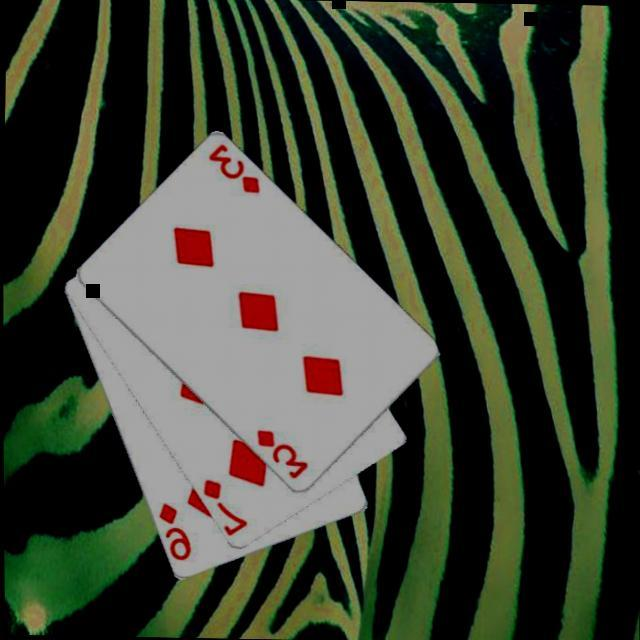3D: (254, 426, 312, 482), (206, 140, 264, 195)
7D: (200, 475, 252, 536)
9D: (156, 498, 194, 563)
